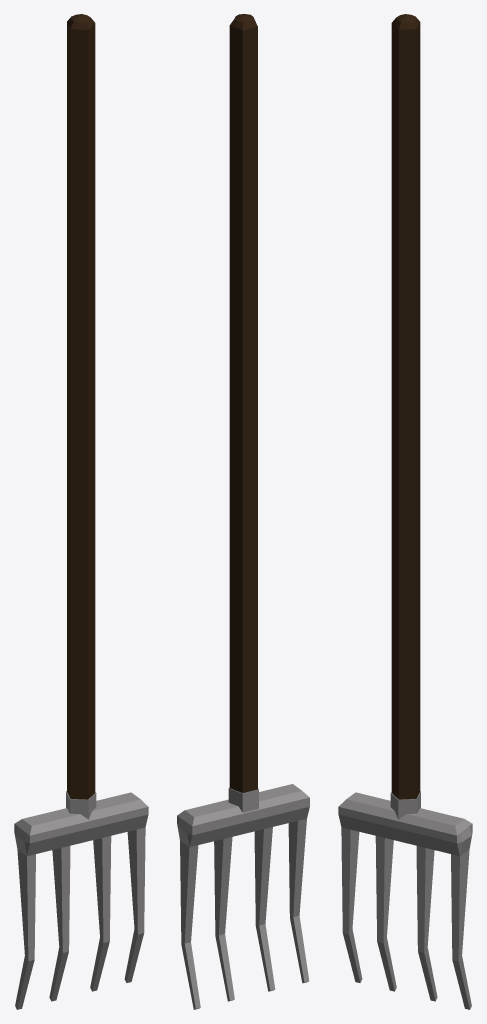
File: Pitchfork_001.fbx
The picture shows the model from 3 angles, left to right: view 1: azimuth 30°, elevation 25°; view 2: azimuth 210°, elevation 25°; view 3: azimuth 330°, elevation 25°; orthographic projection.
Parts seen in each view (by area): view 1: pitchfork; view 2: pitchfork; view 3: pitchfork.
Boxes of the visible parts, bbox=[...] form: pitchfork: bbox=[14, 14, 148, 1009]; pitchfork: bbox=[177, 14, 309, 1009]; pitchfork: bbox=[338, 14, 472, 1009].
Bounding box in the file's own units: 28.28 × 216 × 6.71.
